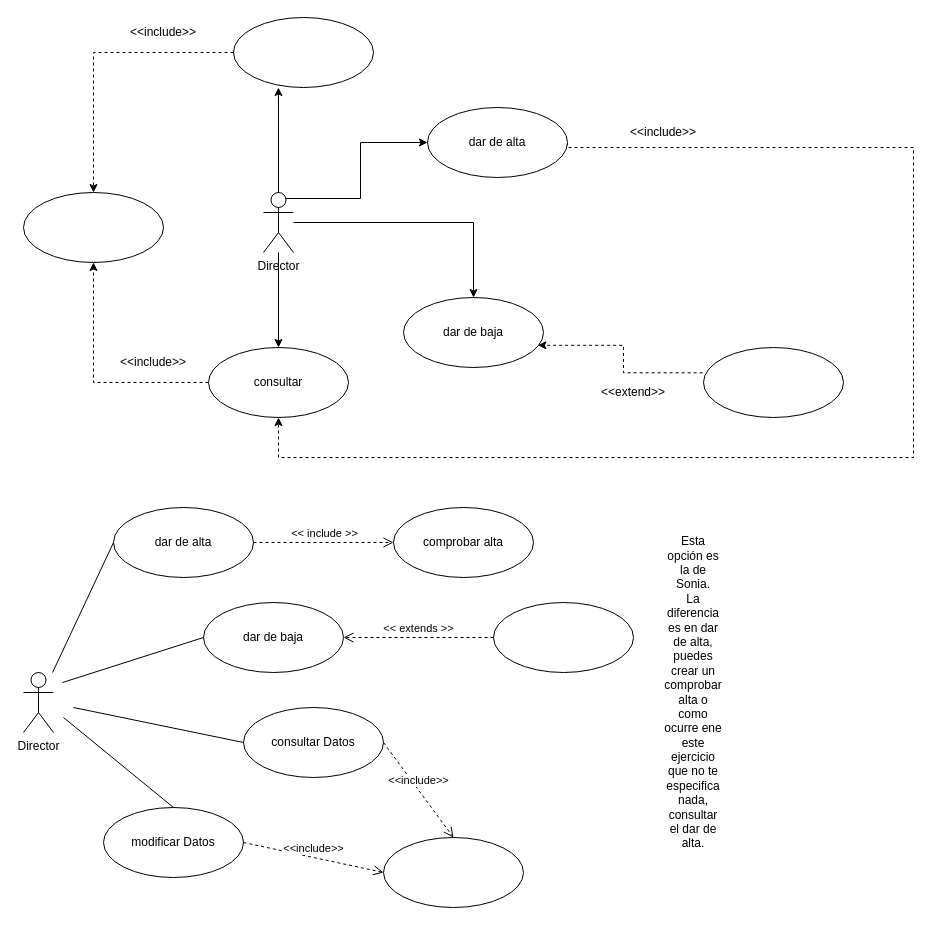
The diagram is 939 pixels wide and 925 high, and some of its shapes have lost their labels. Here are the shapes that lost their labels. From the top down, the centre of each, then its label:
At (303,52): "modificar".
At (93,227): "localizar datos".
At (773,382): "dar de baja del sistema completo".
At (563,637): "eliminar definitivamente".
At (453,872): "localizar detalles".
